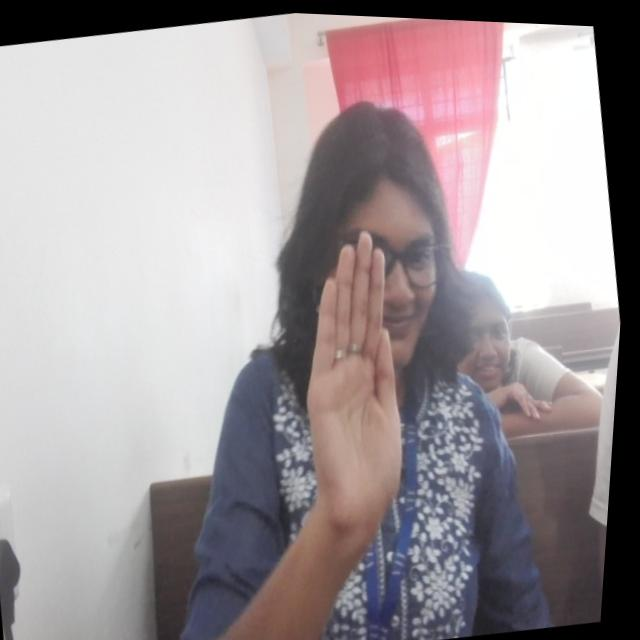hello: (280, 221, 433, 526)
